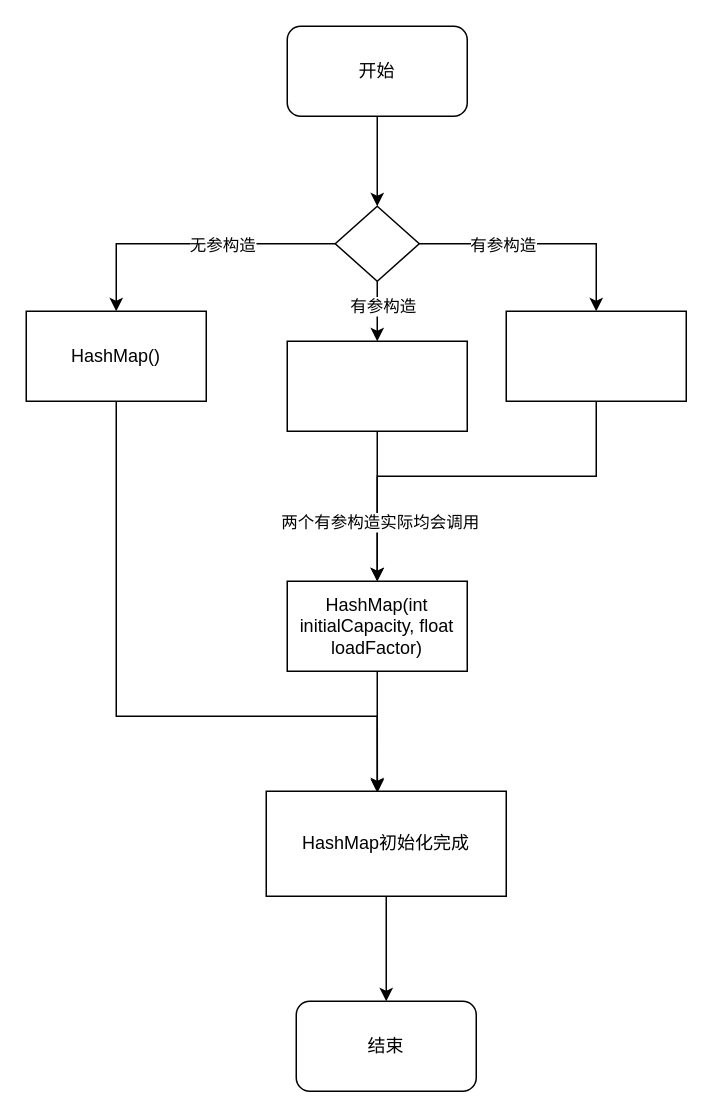
Image size: 713x1118. Some labels were removed from this diagram. The shapes that lost their labels are listed below. From the top down, each one's centre as x and y in pixels, then its label:
the point at 595,355: HashMap(int initialCapacity)
the point at 376,385: HashMap(Map<? extends K, ? extends V> m)
